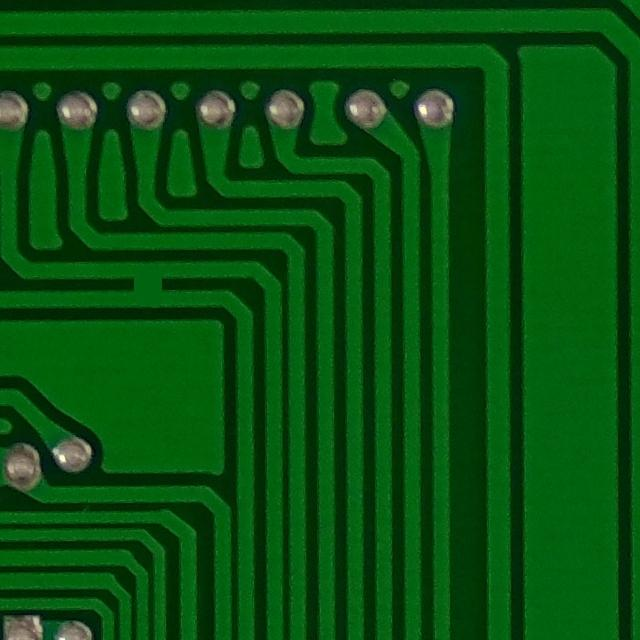short: (120, 260, 181, 313)
